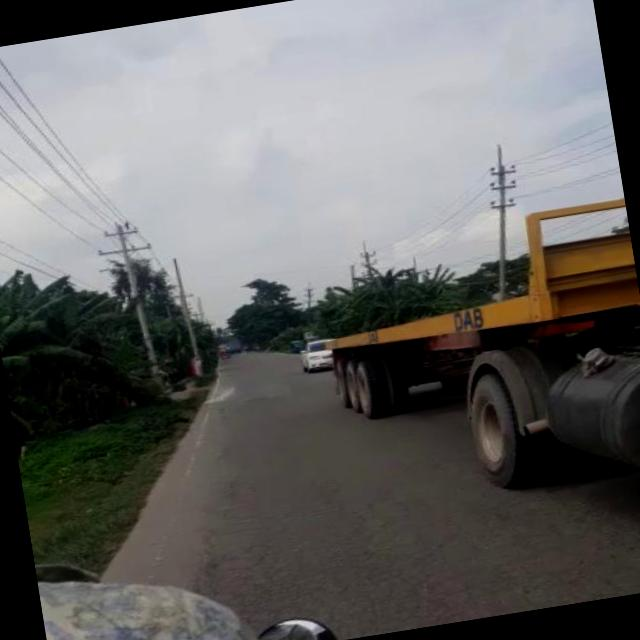car: (291, 336, 337, 372)
truck: (309, 197, 640, 511)
